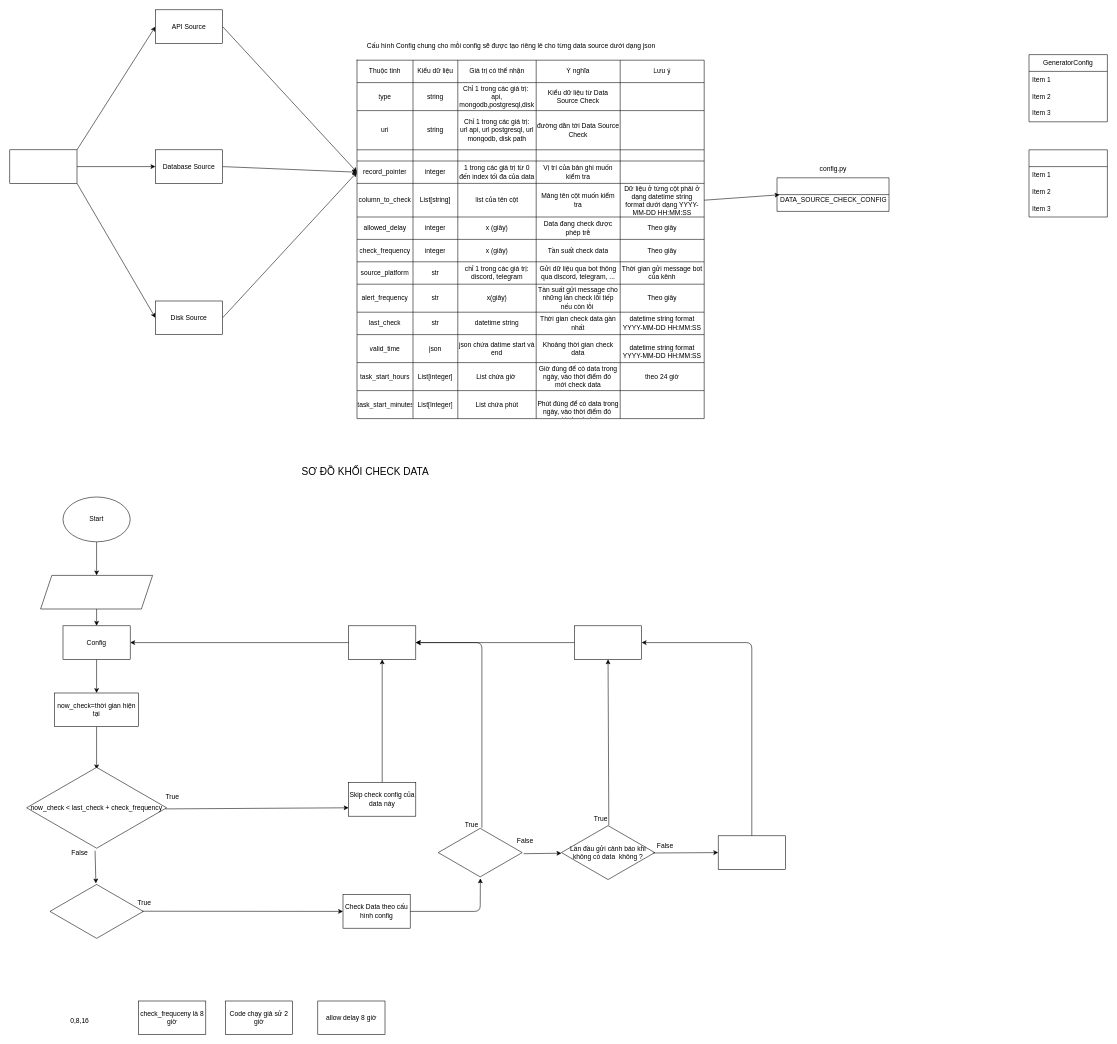
The diagram is 1117 pixels wide and 1044 high, and some of its shapes have lost their labels. Each missing label, with the centre of its shape:
Chuyển tới config tiếp theo trong list configs: the point at 382,642
Chờ thêm alert_frequency nữa mới được gửi cảnh báo nếu lỗi tiếp: the point at 751,852
Có data: the point at 480,852
Data Source Check: the point at 43,166
Gửi message: the point at 608,642
List cấu hình Config của Data Source Check: the point at 96,592
now_check = last_check + check _frequency: the point at 96,911
